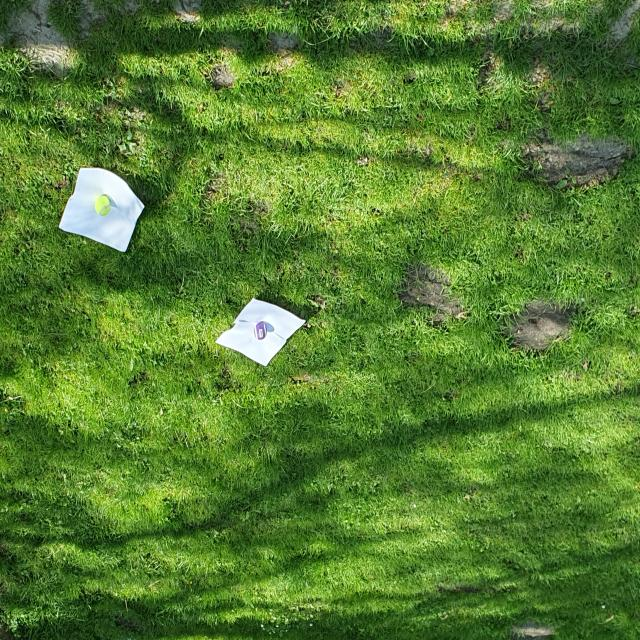green: (95, 195, 111, 216)
purple: (254, 322, 267, 339)
